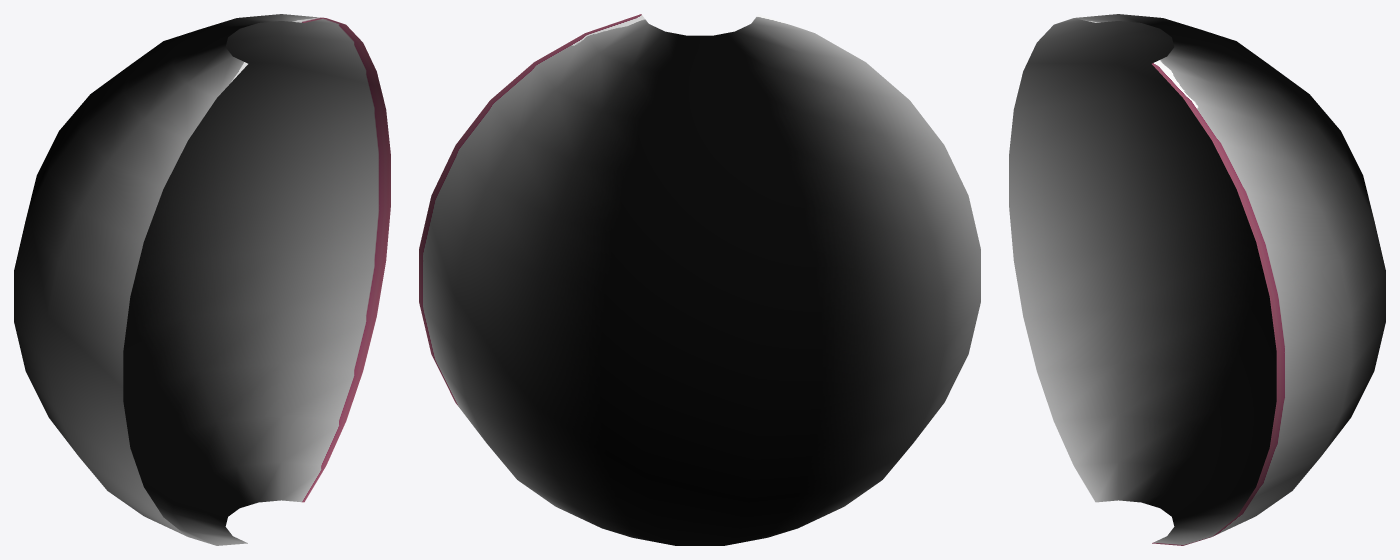
The model's file is half_light.fbx.
3 renders of one model, left to right at view 1: azimuth 30°, elevation 25°; view 2: azimuth 150°, elevation 25°; view 3: azimuth 270°, elevation 25°, orthographic. The views are drawn at different scales.
Visible parts, largest first — view 1: polySurface2; view 2: polySurface2; view 3: polySurface2.
Boxes of the visible parts, box(x1,y1,x2,y2) form: polySurface2: box(14, 14, 390, 545); polySurface2: box(419, 14, 980, 545); polySurface2: box(1009, 14, 1385, 545).
Size of the model in its own units: 237 by 183 by 257.
Materials: 1 (1 with a texture image).
